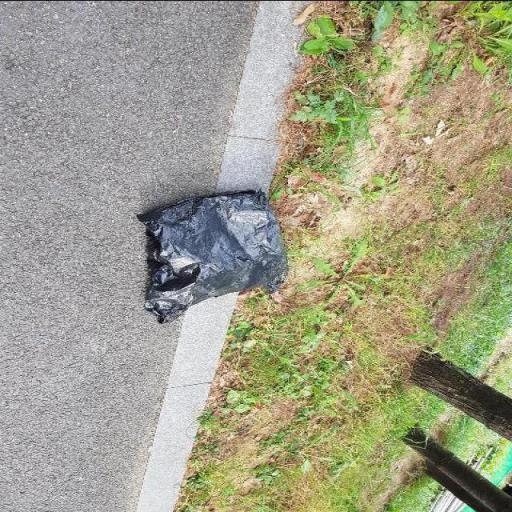polythene: (138, 190, 286, 322)
